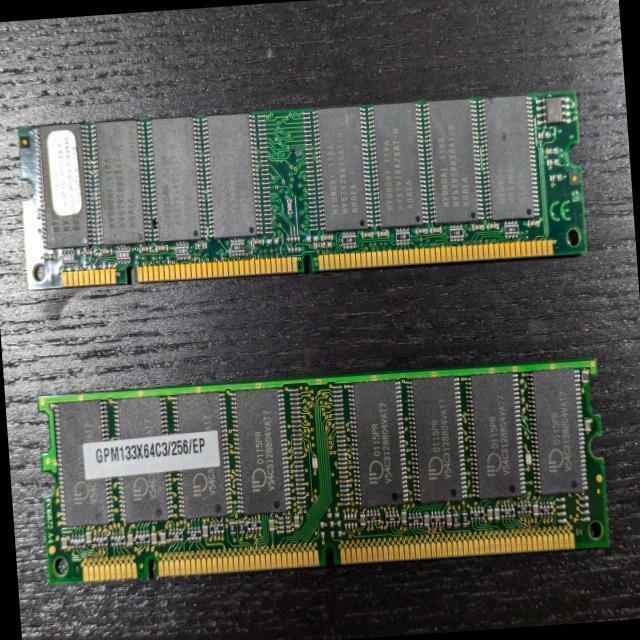RAM: (36, 358, 609, 586), (17, 85, 588, 294)
